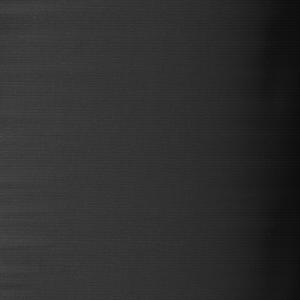Wrinkle: (1, 107, 64, 300), (1, 1, 99, 81)
